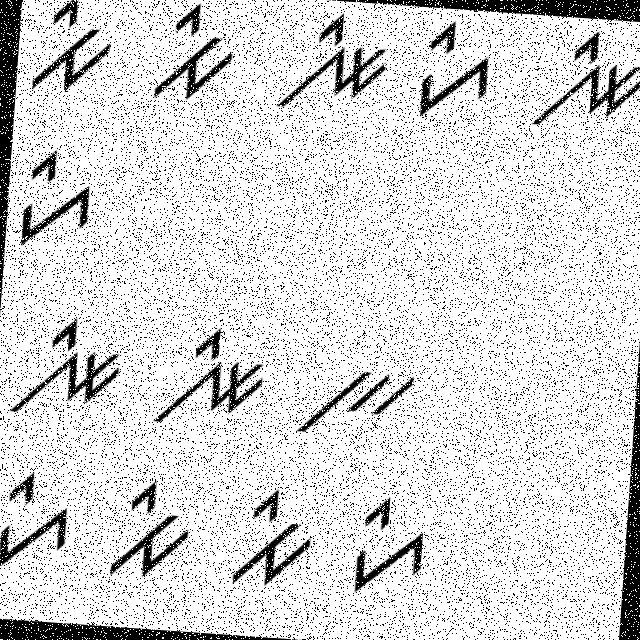hi: (341, 491, 438, 604), (11, 143, 103, 255), (411, 12, 501, 126), (0, 466, 83, 579)
mbi: (222, 480, 323, 595), (104, 464, 200, 584), (146, 0, 236, 110), (27, 0, 114, 102)
ndi: (0, 311, 130, 429), (268, 6, 394, 121), (152, 320, 273, 434), (524, 21, 639, 140)
